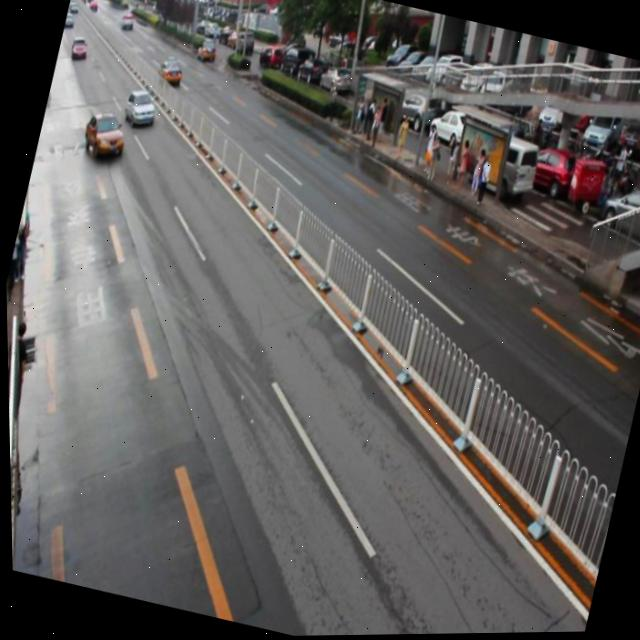car: (78, 109, 128, 160), (120, 88, 161, 130)
